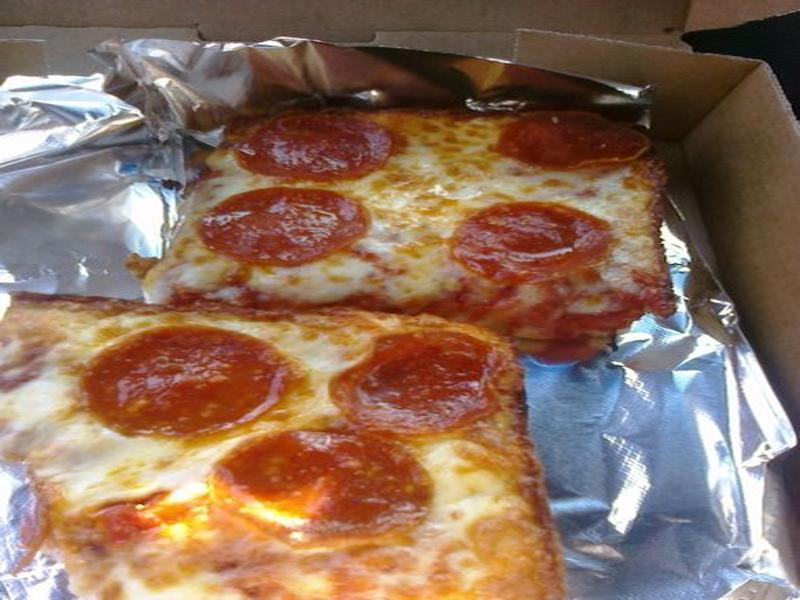pizza: (15, 51, 705, 600)
